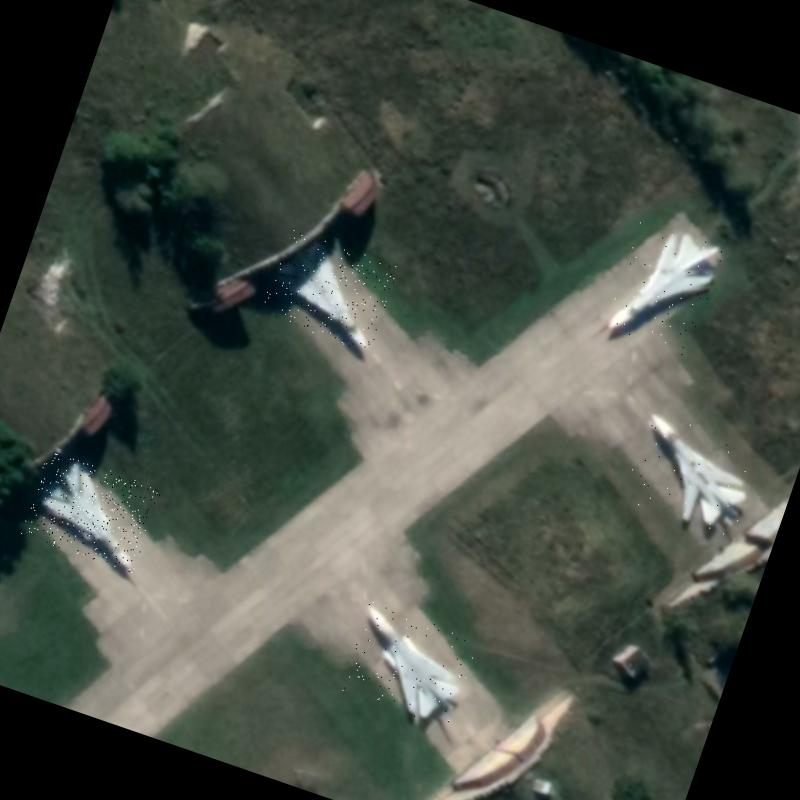A20: (618, 408, 766, 540), (336, 600, 480, 730), (258, 228, 400, 354), (603, 214, 727, 357), (20, 450, 162, 574)
